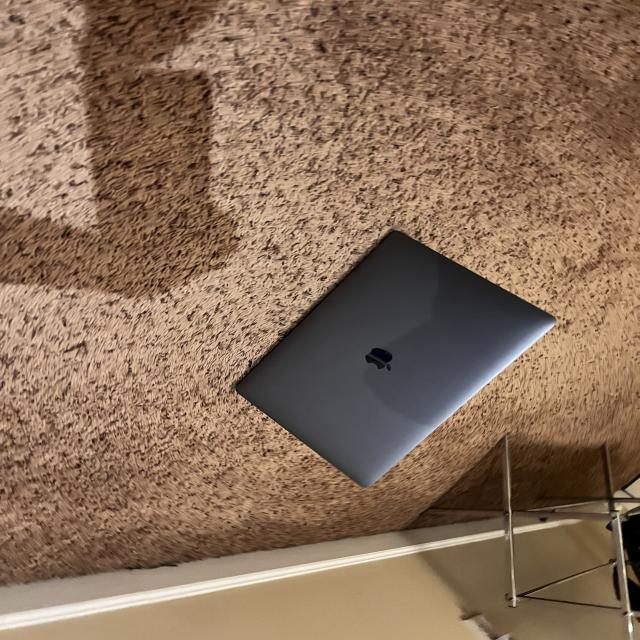laptop: (233, 227, 556, 488)
